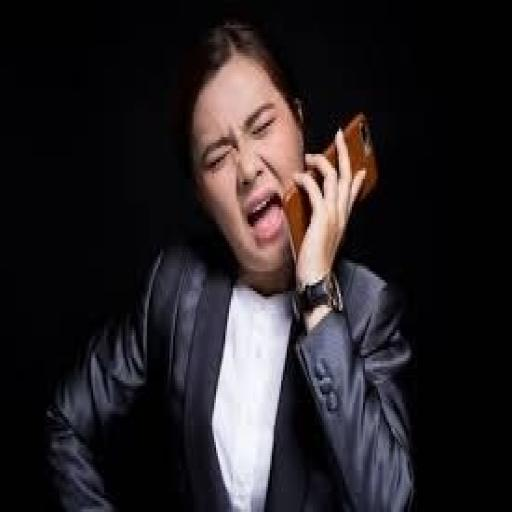calling: (41, 17, 419, 509)
